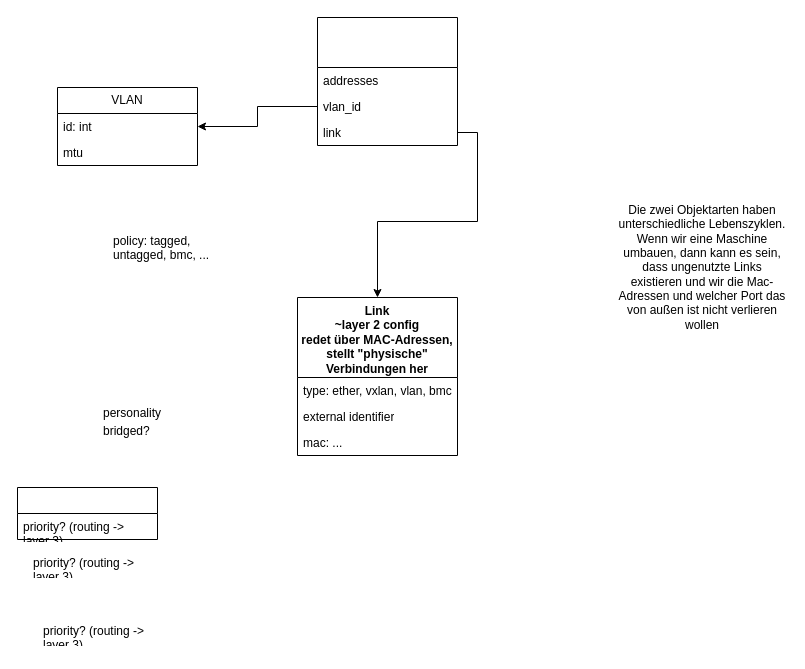
This 805x669 diagram has some shape labels left out. The box of each missing label's shape, as (x1, y1, x2, y2) in pixels:
Network Interface ~layer 3 config, redet über IP-Adressen: (316, 16, 458, 146)
unklare zuordnung: (16, 486, 158, 540)
